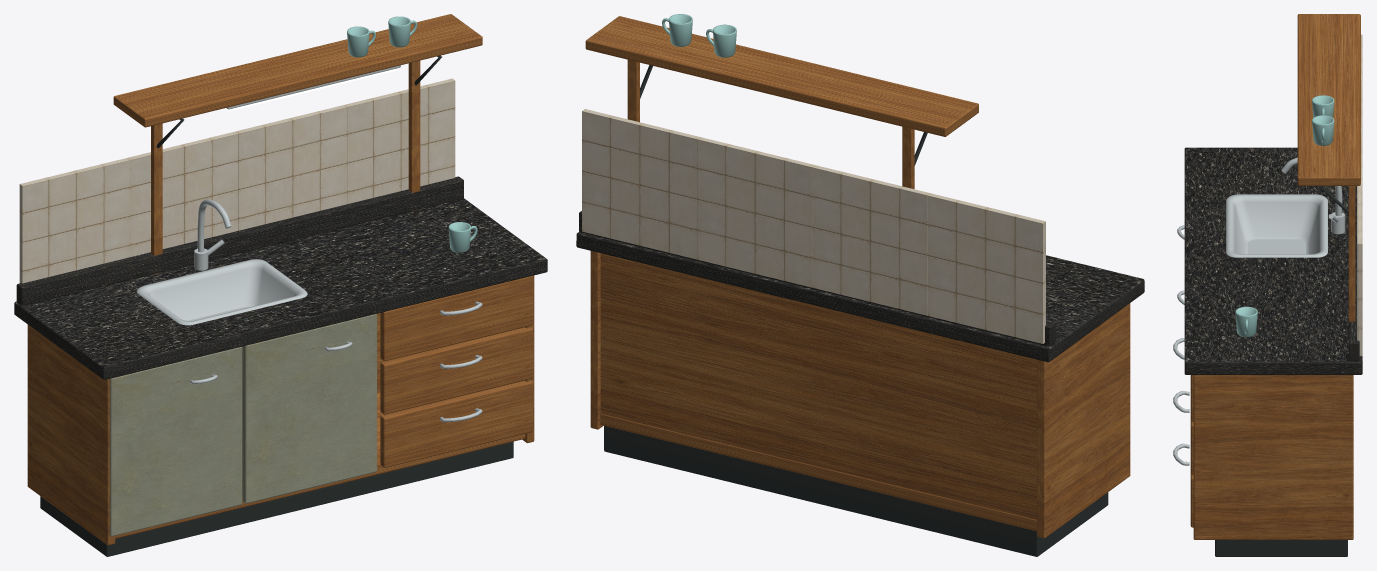
File: bancada-cozinha.glb
3 renders of one model, left to right at view 1: azimuth 30°, elevation 25°; view 2: azimuth 150°, elevation 25°; view 3: azimuth 270°, elevation 25°, orthographic. The views are drawn at different scales.
Parts seen in each view (by area): view 1: Bancada residencial; view 2: Bancada residencial; view 3: Bancada residencial.
Boxes of the visible parts, box(x1,y1,x2,y2) form: Bancada residencial: box(14, 14, 547, 556); Bancada residencial: box(576, 14, 1144, 556); Bancada residencial: box(1173, 14, 1362, 556).
Size of the model in its own units: 2.26 by 2 by 0.8411.
5 materials, 1 textured.
